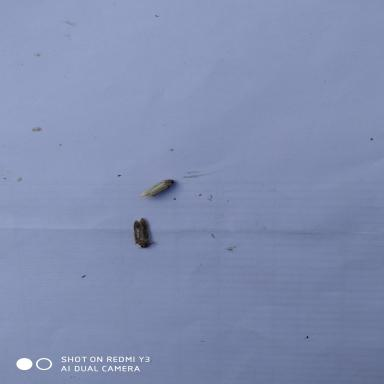pbw: (130, 216, 159, 252), (137, 177, 180, 198)
